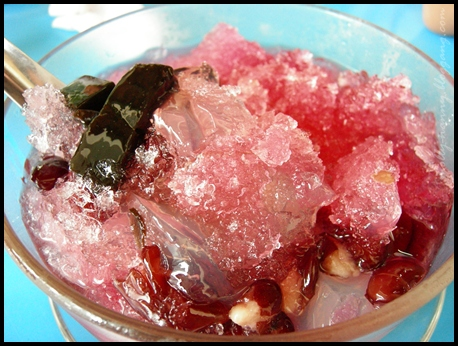O-eo: (24, 20, 457, 339)
